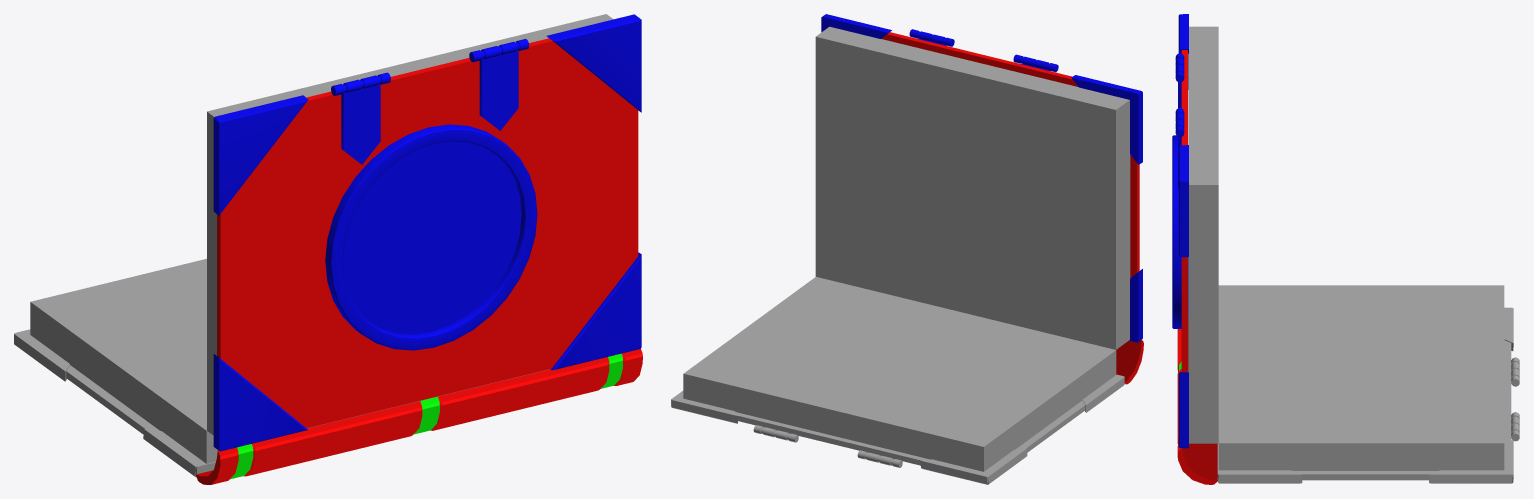
Rendered from Props_Book_Animation_Fix.fbx.
The picture shows the model from 3 angles, left to right: view 1: azimuth 30°, elevation 25°; view 2: azimuth 150°, elevation 25°; view 3: azimuth 270°, elevation 25°; orthographic projection. The views are drawn at different scales.
Visible parts, largest first — view 1: Cover1, pageFloor, Spine, pageBackground, Cover2; view 2: pageBackground, pageFloor, Cover1, Cover2, Spine; view 3: pageFloor, pageBackground, Cover1, Cover2, Spine.
Boxes of the visible parts, left/top/right/bottom form: Cover1: left=213, top=14, right=641, bottom=451; pageFloor: left=30, top=258, right=549, bottom=463; Spine: left=195, top=349, right=642, bottom=484; pageBackground: left=207, top=14, right=613, bottom=435; Cover2: left=14, top=329, right=215, bottom=477; pageBackground: left=815, top=26, right=1130, bottom=349; pageFloor: left=683, top=277, right=1116, bottom=471; Cover1: left=821, top=14, right=1142, bottom=342; Cover2: left=671, top=374, right=1124, bottom=484; Spine: left=1116, top=339, right=1143, bottom=384; pageFloor: left=1218, top=285, right=1504, bottom=470; pageBackground: left=1188, top=26, right=1218, bottom=443; Cover1: left=1172, top=14, right=1188, bottom=448; Cover2: left=1217, top=307, right=1519, bottom=483; Spine: left=1177, top=317, right=1217, bottom=484.
Bounding box in the file's own units: 12.32 × 10.8 × 10.81.
